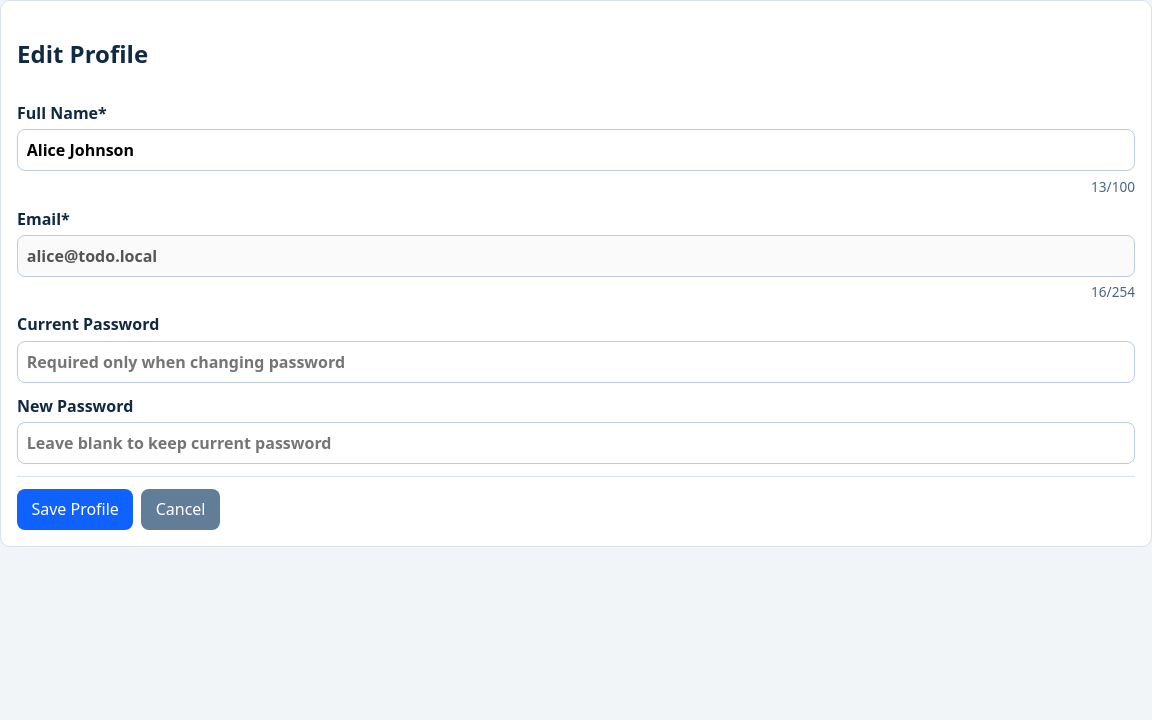
ProfileForm › disables email and submits profile payload
The width and height of the screenshot is (1152, 720).
Check: the field named "Email (cannot be changed)" is disabled, box x1=17 y1=235 x2=1135 y2=277
Replace the text in the field labelled "Full Name* 13/100" with "Alice Updated": (576, 150) x1=17 y1=129 x2=1135 y2=171
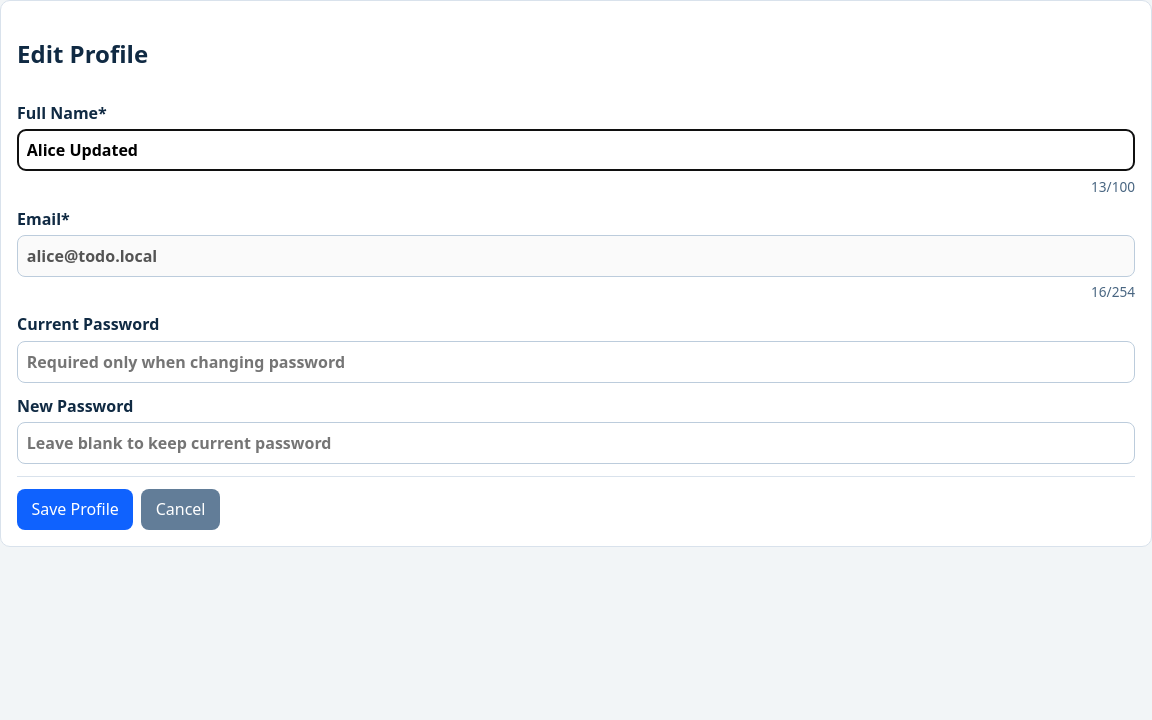
In the password field labelled "Current Password": (576, 362) x1=17 y1=341 x2=1135 y2=383, type "Strong1!"
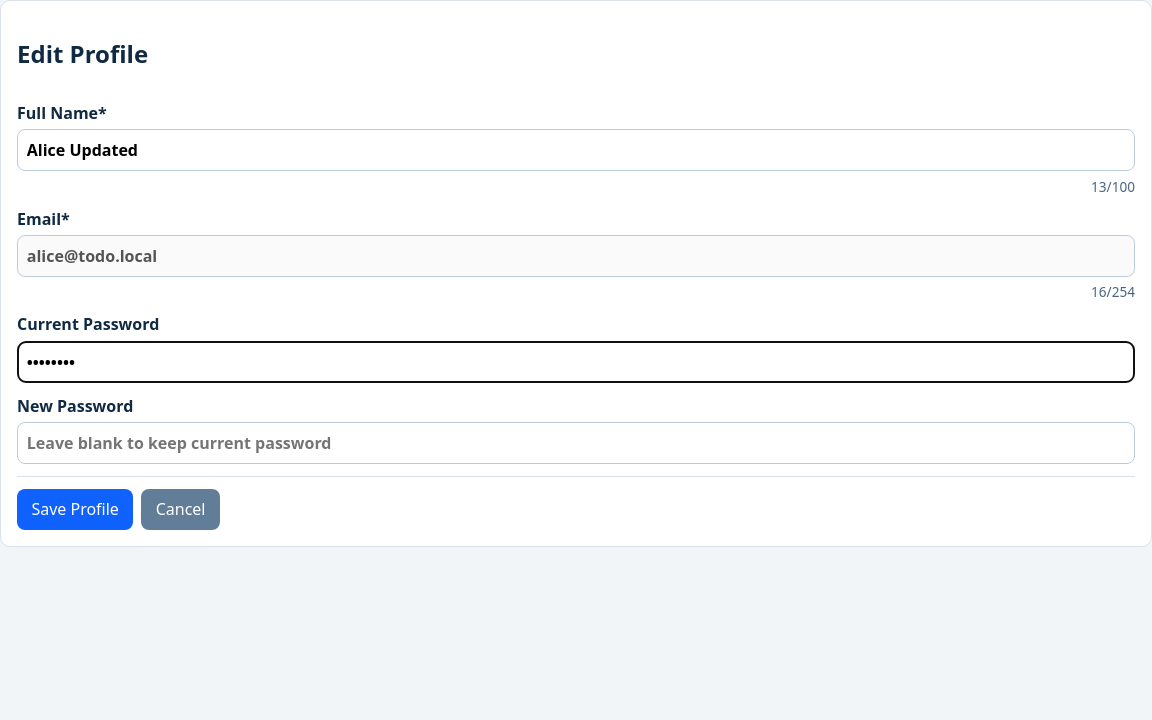
In the password field labelled "New Password": (576, 443) x1=17 y1=422 x2=1135 y2=464, type "NewStrong1!"
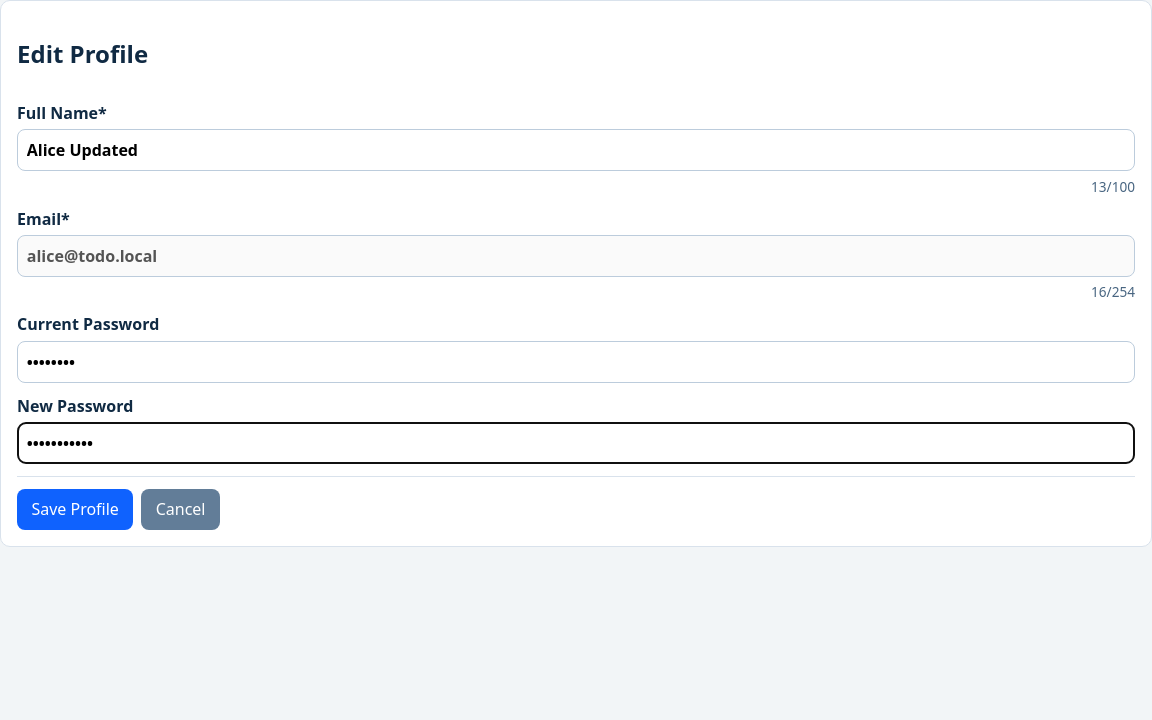
Click the button "Save Profile": (75, 509) x1=17 y1=489 x2=133 y2=530
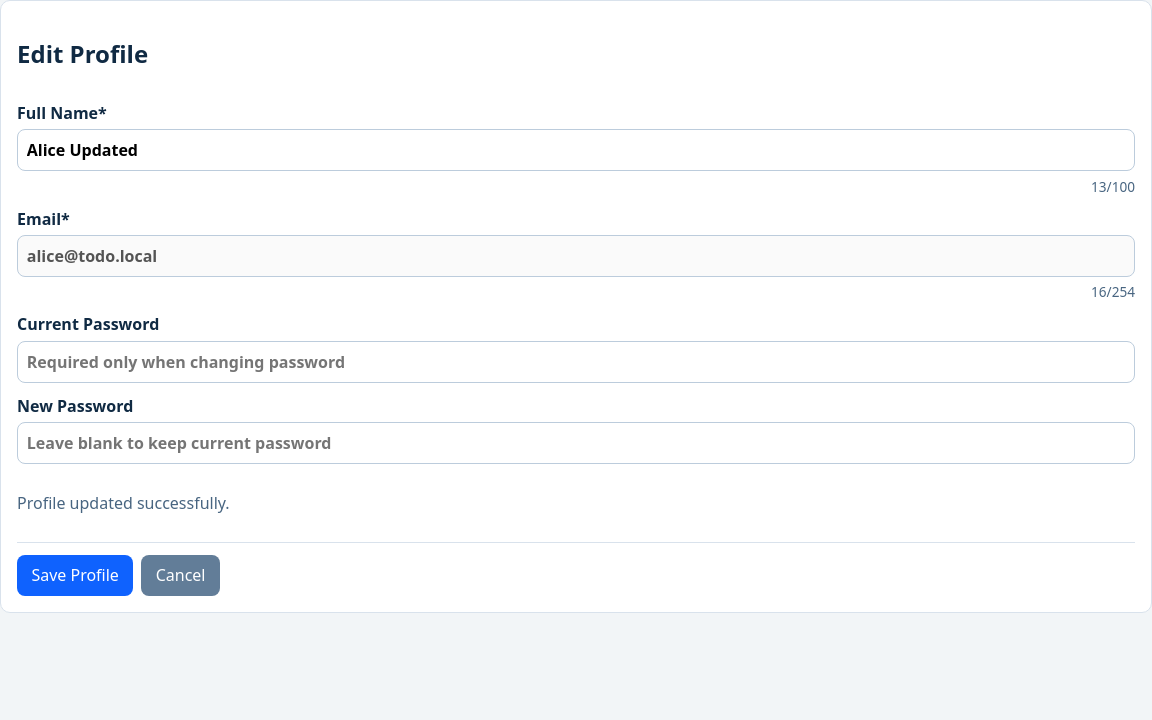
Check: the text "Profile updated successfully." is shown, box x1=17 y1=492 x2=230 y2=514
